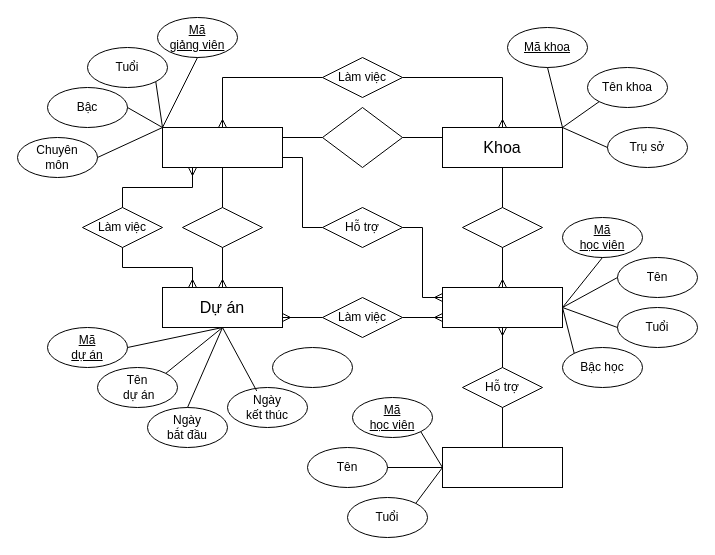
Some shapes in this 715 by 555 pixel diagram are drawn without their labels. The centre of each missing label's shape, as x and y in pixels:
"Giáo sư" belongs at [222,147].
"Học viên" belongs at [502,307].
"Học viên hỗ trợ" belongs at [502,467].
"Ngân sách" belongs at [312,367].
"Quản lý" belongs at [222,227].
"Thuộc" belongs at [502,227].
"Trưởng khoa" belongs at [362,137].
